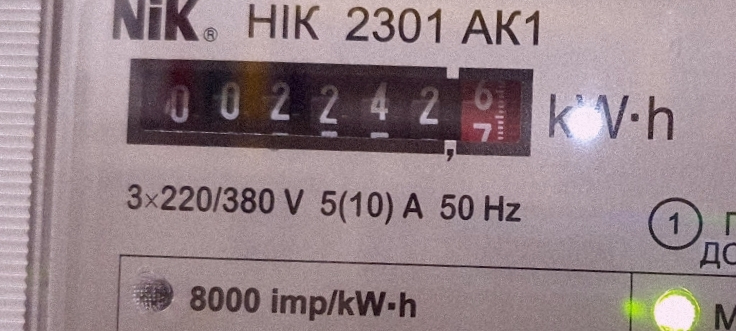0: (215, 77, 242, 120), (267, 78, 293, 122), (167, 79, 191, 125)
2: (414, 82, 441, 127), (316, 80, 341, 125)
4: (365, 77, 391, 122)
6: (470, 77, 495, 111)
7: (469, 119, 493, 143)
screen: (114, 35, 551, 180)
